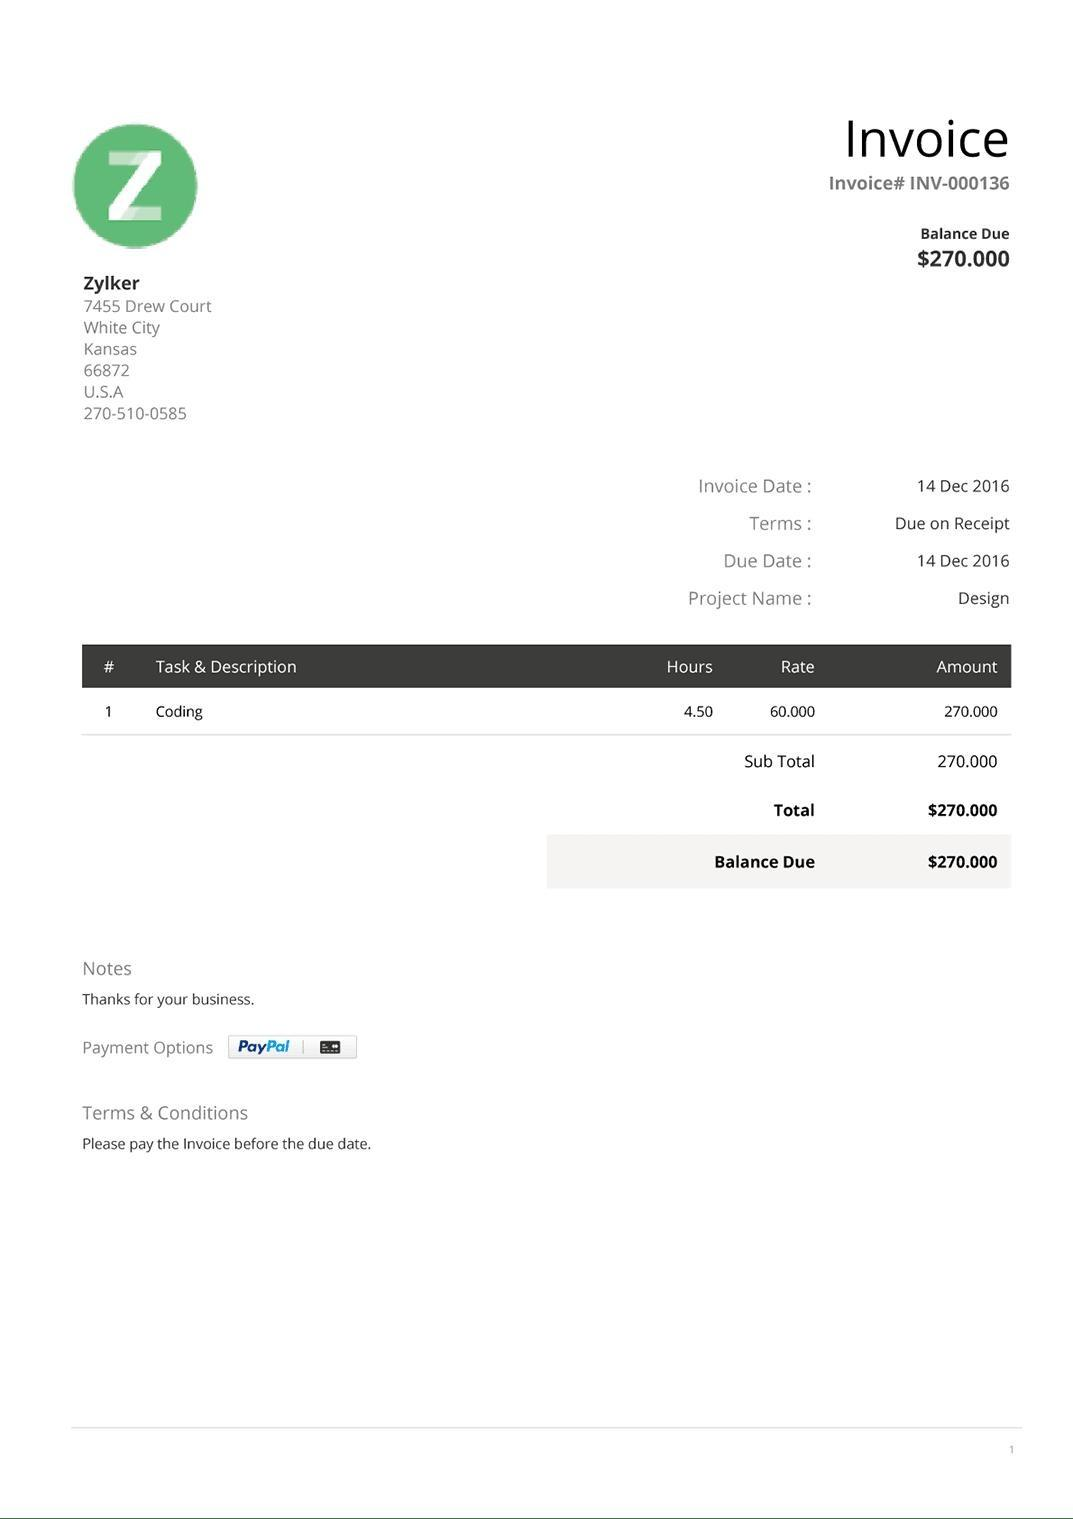ROI: (85, 647, 1010, 725), (685, 474, 1020, 615), (70, 1020, 390, 1161), (713, 750, 1000, 873), (77, 268, 218, 425)
